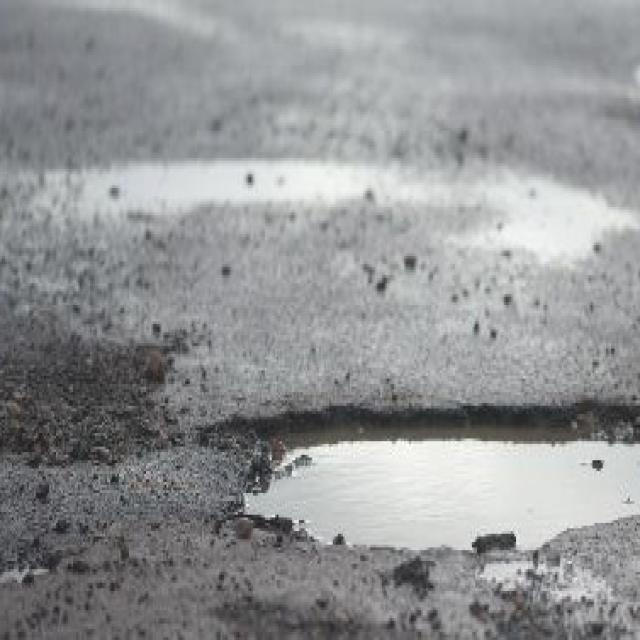road-pothole: (196, 403, 638, 561)
